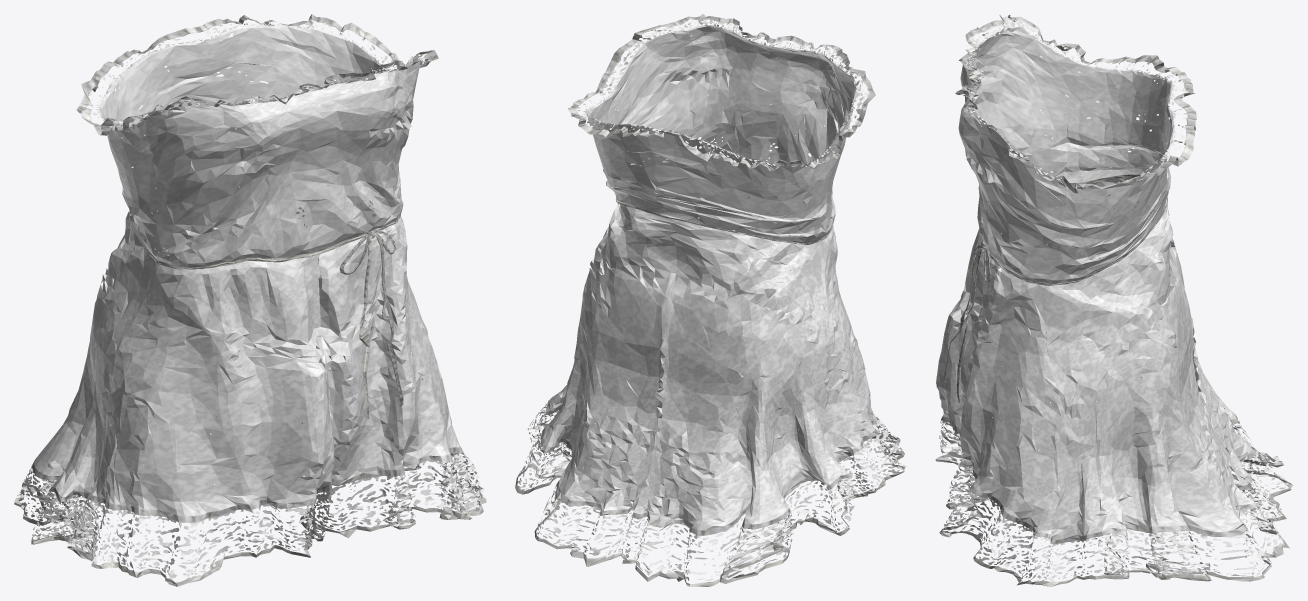
Rendered from mhw_elvs_crochet_baby_doll.glb.
3 views of the same model, side by side, from view 1: azimuth 30°, elevation 25°; view 2: azimuth 150°, elevation 25°; view 3: azimuth 270°, elevation 25° (orthographic). The views are drawn at different scales.
Parts seen in each view (by area): view 1: mhw_elvs_crochet_baby_doll; view 2: mhw_elvs_crochet_baby_doll; view 3: mhw_elvs_crochet_baby_doll.
Part boxes in pixels (x1,y1,x2,y2): mhw_elvs_crochet_baby_doll: (14, 14, 486, 586); mhw_elvs_crochet_baby_doll: (515, 14, 905, 586); mhw_elvs_crochet_baby_doll: (935, 15, 1293, 586).
Bounding box in the file's own units: 0.5184 × 0.6455 × 0.4502.
Materials: 1 (1 with a texture image).
